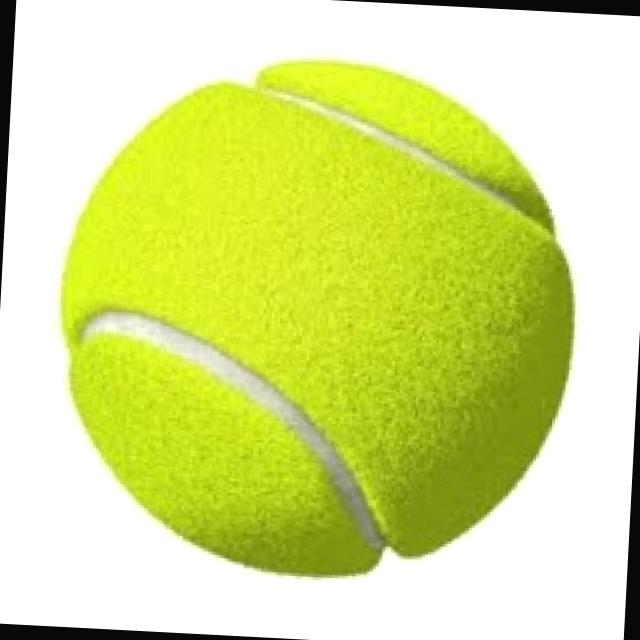Tennis Ball: (60, 58, 578, 580)
